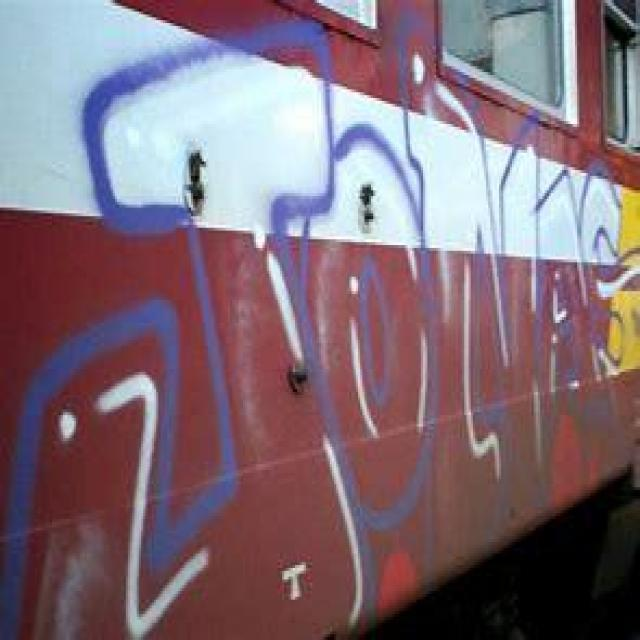nonspitting: (6, 14, 627, 640)
